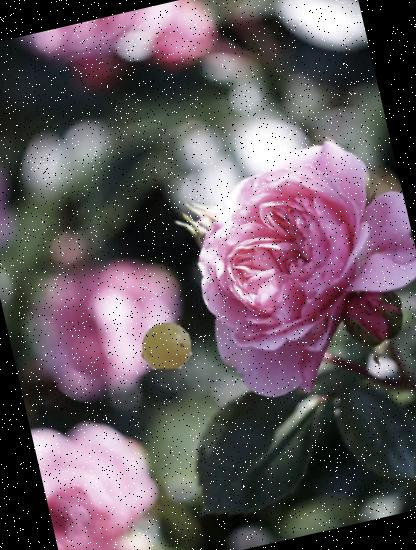Grape: (136, 315, 197, 376)
